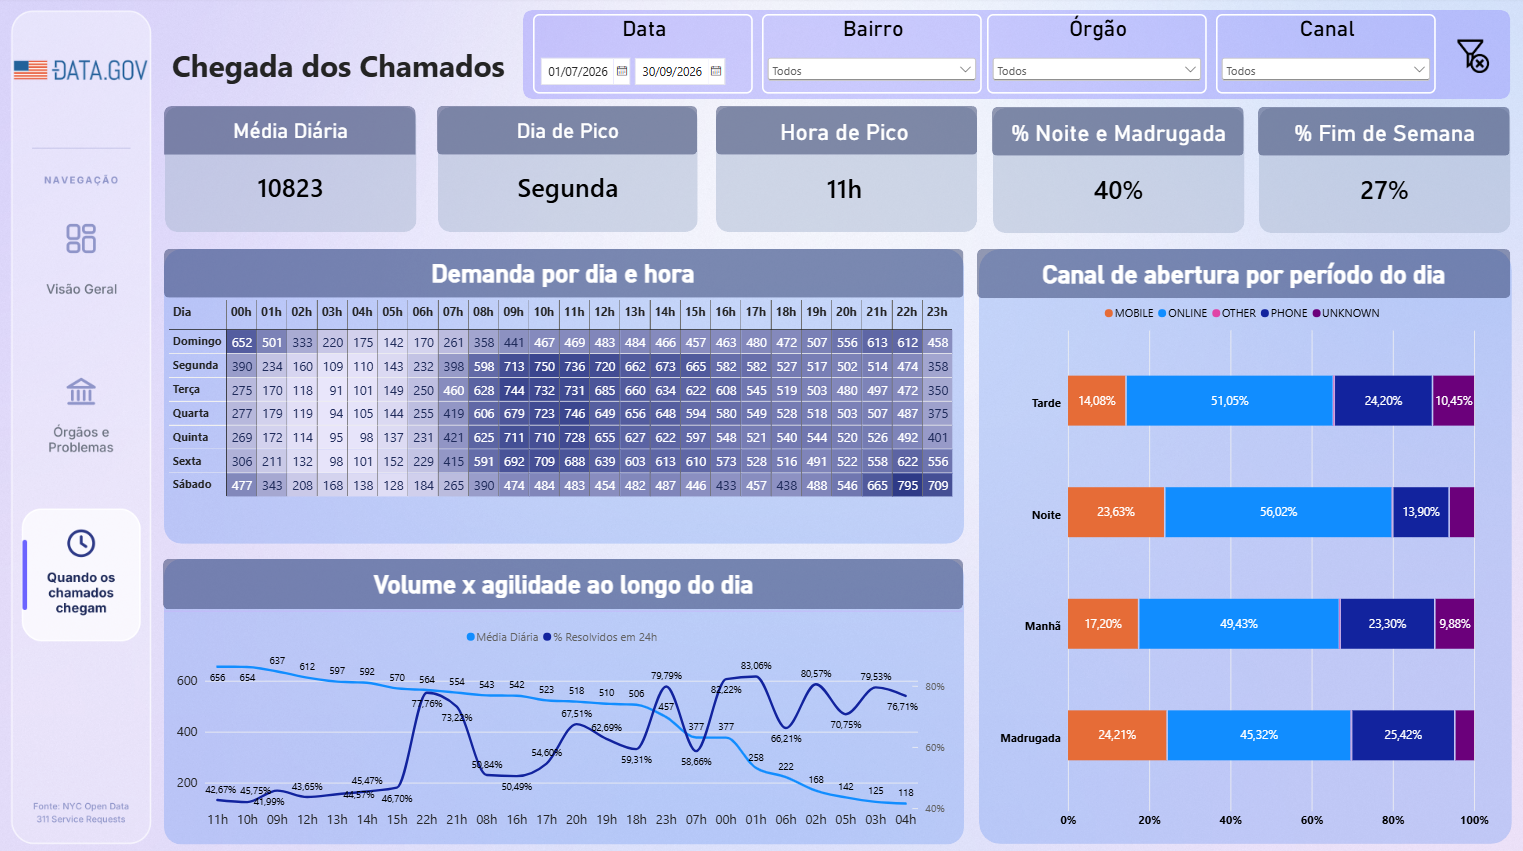

The dashboard page shown, as its layout file describes it:
{"tool":"powerbi","page":{"name":"Quando os chamados chegam","canvas":[1920,1080],"ordinal":2},"visuals":[{"type":"image","box":[0,0,1920,1079.5],"z":0},{"type":"shape","box":[552.4,137.7,326.4,157],"z":0,"group":"g3"},{"type":"shape","box":[901.4,137.7,327.9,157],"z":0,"group":"g5"},{"type":"shape","box":[208.8,137.9,316,157],"z":0,"group":"g1"},{"type":"shape","box":[1249.3,139.2,316,157],"z":0,"group":"g4"},{"type":"shape","box":[1583.6,139.2,316,157],"z":0,"group":"g2"},{"type":"shape","box":[659.3,15.8,1239.7,111.6],"z":1000},{"type":"shape","box":[551.6,136.4,326.7,61.5],"z":1000,"group":"g3"},{"type":"shape","box":[901.4,136.4,328.1,61.5],"z":1000,"group":"g5"},{"type":"shape","box":[208,136.6,316.3,61.5],"z":1000,"group":"g1"},{"type":"shape","box":[1248.5,137.9,316.3,61.5],"z":1000,"group":"g4"},{"type":"shape","box":[1582.8,137.9,316.3,61.5],"z":1000,"group":"g2"},{"type":"card","title":"Hora de Pico","fields":{"Values":["Medidas.Dia de Pico"]},"box":[552.4,137.7,326.4,157.6],"z":2000,"group":"g3"},{"type":"card","title":"Hora de Pico","fields":{"Values":["Medidas.Hora de Pico"]},"box":[899.3,137.7,327.9,157.6],"z":2000,"group":"g5"},{"type":"card","title":"Média Diária","fields":{"Values":["Medidas.Média Diária"]},"box":[208.8,137.9,316,157.6],"z":2000,"group":"g1"},{"type":"card","title":"% Noite e Madrugada","fields":{"Values":["Medidas.% Noite e Madrugada"]},"box":[1249.3,139.2,316,157.6],"z":2000,"group":"g4"},{"type":"card","title":"% Fim de Semana","fields":{"Values":["Medidas.% Fim de Semana"]},"box":[1583.6,139.2,316,157.6],"z":2000,"group":"g2"},{"type":"shape","box":[208.8,316.5,1004.7,370.3],"z":2000},{"type":"shape","box":[208.8,705.2,1004.7,358.5],"z":3000},{"type":"shape","box":[1231.8,316.5,669.8,370.3],"z":4000},{"type":"group","id":"g1","title":"TOTAL DE CHAMADOS:","box":[208,136.6,316.8,158.9],"z":5000},{"type":"group","id":"g2","title":"EM ABERTO","box":[1582.8,137.9,317.8,158.9],"z":6000},{"type":"group","id":"g3","title":"% FECHADOS","box":[551.6,136.4,328.2,158.9],"z":7000},{"type":"group","id":"g4","title":"% RESOLVIDOS EM 24H","box":[1248.5,137.9,317.8,158.9],"z":8000},{"type":"group","id":"g5","title":"MEDIANA (H)","box":[899.3,136.4,331.2,158.9],"z":9000},{"type":"textbox","box":[227.2,51.2,432.1,61.7],"z":10000},{"type":"shape","box":[208.3,316.3,1004.2,61.5],"z":11000},{"type":"lineChart","title":"Chamados por dia","fields":{"Category":["dCalendario.data"],"Y":["Medidas.Chamados"]},"box":[224.6,316.5,979.7,370.3],"z":12000},{"type":"shape","box":[207.5,705.2,1004.7,63],"z":13000},{"type":"columnChart","title":"Chamados por faixa de resolução","fields":{"Category":["dFaixa.faixa"],"Y":["Medidas.Chamados"]},"box":[227.2,705.2,977.1,358.5],"z":14000},{"type":"shape","box":[1231.8,705.2,667.1,63],"z":15000},{"type":"shape","box":[1229.2,316.5,669.8,61.7],"z":16000},{"type":"shape","box":[1231.8,705.2,669.8,358.5],"z":17000},{"type":"donutChart","title":"Chamados por Canal","fields":{"Category":["fChamados.canal"],"Y":["CountNonNull(fChamados.canal)"]},"box":[1241,316.5,647.4,370.3],"z":18000},{"type":"barChart","title":"Chamados por Bairro","fields":{"Category":["fChamados.borough"],"Y":["Medidas.Chamados"]},"box":[1242.4,705.2,647.4,358.5],"z":19000},{"type":"slicer","title":"Data","fields":{"Values":["dCalendario.data"]},"box":[672.4,21,275.8,100],"z":20000},{"type":"slicer","title":"Bairro","fields":{"Values":["fChamados.borough"]},"box":[960,21,275.8,100],"z":21000},{"type":"slicer","title":"Órgão","fields":{"Values":["dOrgao.sigla"]},"box":[1242.4,21,275.8,100],"z":22000},{"type":"slicer","title":"Canal","fields":{"Values":["fChamados.canal"]},"box":[1530,21,275.8,100],"z":23000},{"type":"image","box":[1808.4,36.8,81.4,69.6],"z":24000},{"type":"image","title":"Visão Geral","box":[0,15.8,208.8,1048],"z":25000},{"type":"image","box":[17.1,15.8,172,151],"z":26000},{"type":"shape","box":[18.4,215.4,172,172],"z":26001},{"type":"shape","box":[17.1,443.9,172,172],"z":26002}]}

Visuals, with their boxes on the page's 1920x1080 design canvas (x1, y1, x2, y2). These are canvas units, not pixel positions in the 1523x851 screenshot, which may show the page scaled, cropped or inside an application window:
image: (x1=0, y1=0, x2=1920, y2=1080)
shape: (x1=552, y1=138, x2=879, y2=295)
shape: (x1=901, y1=138, x2=1229, y2=295)
shape: (x1=209, y1=138, x2=525, y2=295)
shape: (x1=1249, y1=139, x2=1565, y2=296)
shape: (x1=1584, y1=139, x2=1900, y2=296)
shape: (x1=659, y1=16, x2=1899, y2=127)
shape: (x1=552, y1=136, x2=878, y2=198)
shape: (x1=901, y1=136, x2=1230, y2=198)
shape: (x1=208, y1=137, x2=524, y2=198)
shape: (x1=1248, y1=138, x2=1565, y2=199)
shape: (x1=1583, y1=138, x2=1899, y2=199)
"Hora de Pico" card: (x1=552, y1=138, x2=879, y2=295)
"Hora de Pico" card: (x1=899, y1=138, x2=1227, y2=295)
"Média Diária" card: (x1=209, y1=138, x2=525, y2=296)
"% Noite e Madrugada" card: (x1=1249, y1=139, x2=1565, y2=297)
"% Fim de Semana" card: (x1=1584, y1=139, x2=1900, y2=297)
shape: (x1=209, y1=316, x2=1214, y2=687)
shape: (x1=209, y1=705, x2=1214, y2=1064)
shape: (x1=1232, y1=316, x2=1902, y2=687)
"TOTAL DE CHAMADOS:" group: (x1=208, y1=137, x2=525, y2=296)
"EM ABERTO" group: (x1=1583, y1=138, x2=1901, y2=297)
"% FECHADOS" group: (x1=552, y1=136, x2=880, y2=295)
"% RESOLVIDOS EM 24H" group: (x1=1248, y1=138, x2=1566, y2=297)
"MEDIANA (H)" group: (x1=899, y1=136, x2=1230, y2=295)
textbox: (x1=227, y1=51, x2=659, y2=113)
shape: (x1=208, y1=316, x2=1212, y2=378)
"Chamados por dia" lineChart: (x1=225, y1=316, x2=1204, y2=687)
shape: (x1=208, y1=705, x2=1212, y2=768)
"Chamados por faixa de resolução" columnChart: (x1=227, y1=705, x2=1204, y2=1064)
shape: (x1=1232, y1=705, x2=1899, y2=768)
shape: (x1=1229, y1=316, x2=1899, y2=378)
shape: (x1=1232, y1=705, x2=1902, y2=1064)
"Chamados por Canal" donutChart: (x1=1241, y1=316, x2=1888, y2=687)
"Chamados por Bairro" barChart: (x1=1242, y1=705, x2=1890, y2=1064)
"Data" slicer: (x1=672, y1=21, x2=948, y2=121)
"Bairro" slicer: (x1=960, y1=21, x2=1236, y2=121)
"Órgão" slicer: (x1=1242, y1=21, x2=1518, y2=121)
"Canal" slicer: (x1=1530, y1=21, x2=1806, y2=121)
image: (x1=1808, y1=37, x2=1890, y2=106)
"Visão Geral" image: (x1=0, y1=16, x2=209, y2=1064)
image: (x1=17, y1=16, x2=189, y2=167)
shape: (x1=18, y1=215, x2=190, y2=387)
shape: (x1=17, y1=444, x2=189, y2=616)
